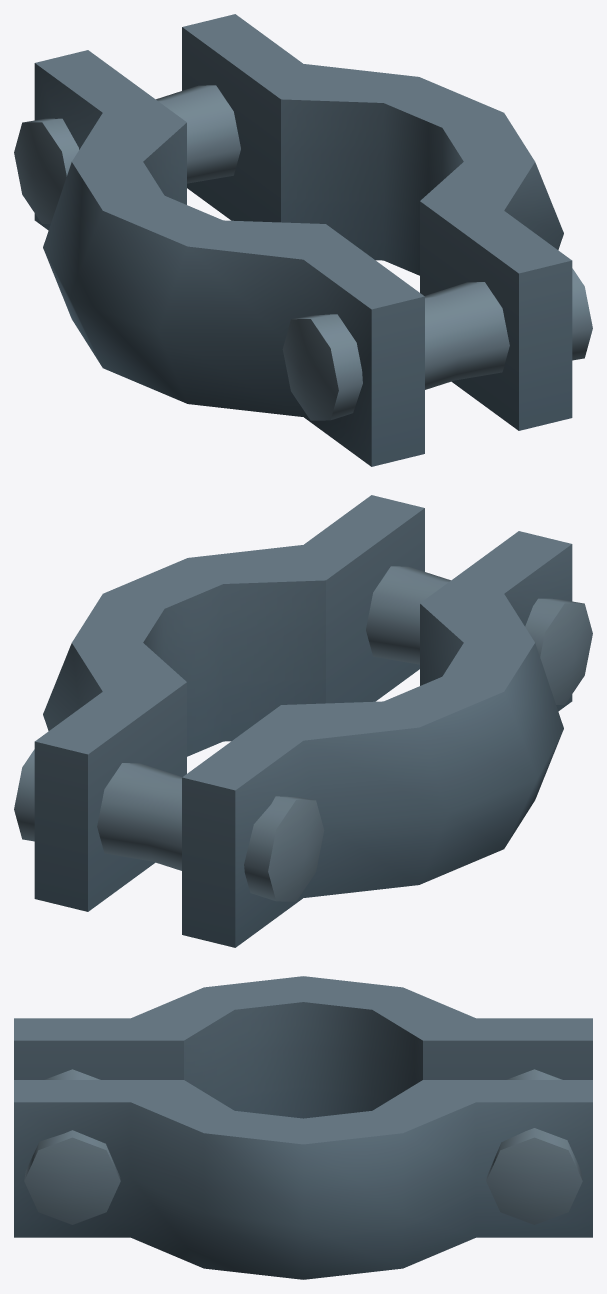
The model's file is chain_shackle.glb.
The picture shows the model from 3 angles, top to bottom: view 1: azimuth 30°, elevation 25°; view 2: azimuth 150°, elevation 25°; view 3: azimuth 270°, elevation 25°; orthographic projection. The views are drawn at different scales.
Parts seen in each view (by area): view 1: chain_shackle; view 2: chain_shackle; view 3: chain_shackle.
Part boxes in pixels (left/top/right/bottom): chain_shackle: left=14, top=14, right=592, bottom=466; chain_shackle: left=14, top=495, right=592, bottom=947; chain_shackle: left=14, top=976, right=592, bottom=1279.
Size of the model in its own units: 0.4665 by 0.15 by 0.5814.
Materials: 1 (1 with a texture image).
